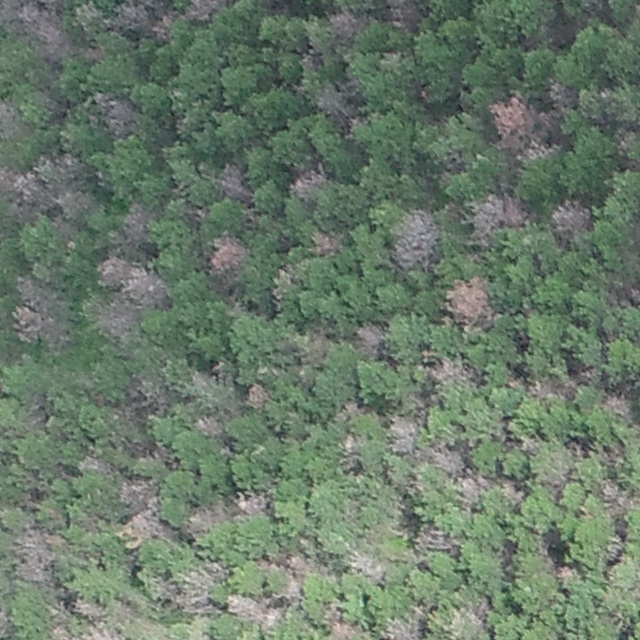unhealthy: (487, 92, 553, 156), (467, 191, 528, 244), (389, 209, 439, 271), (16, 1, 69, 58), (169, 563, 222, 615), (443, 277, 492, 331), (12, 528, 57, 584), (0, 164, 44, 216), (114, 199, 156, 252), (226, 591, 282, 629), (88, 91, 135, 136), (91, 298, 141, 338), (312, 81, 356, 125), (33, 151, 88, 184), (11, 306, 57, 345), (425, 355, 479, 388), (121, 509, 174, 542), (548, 197, 591, 237), (208, 234, 248, 277), (127, 374, 169, 414), (12, 274, 58, 309), (411, 525, 460, 555), (288, 164, 328, 200), (183, 501, 225, 535), (116, 475, 159, 508), (348, 548, 387, 584), (216, 162, 251, 201), (326, 6, 366, 39), (352, 319, 386, 357), (51, 188, 96, 216), (598, 478, 633, 514), (383, 0, 425, 30), (386, 414, 418, 453), (123, 275, 164, 305), (95, 256, 132, 289), (429, 443, 465, 475), (543, 77, 577, 110), (113, 0, 150, 30), (232, 488, 270, 516), (0, 96, 24, 140), (454, 473, 485, 507), (381, 615, 422, 640), (460, 596, 491, 628), (149, 11, 178, 45), (308, 228, 343, 256), (78, 451, 117, 476), (183, 0, 225, 22), (600, 390, 632, 418), (191, 413, 225, 439), (81, 621, 123, 639), (244, 382, 271, 409), (72, 597, 104, 619), (498, 480, 526, 504), (528, 377, 559, 398), (280, 578, 304, 605), (298, 47, 322, 73), (284, 552, 311, 575), (320, 600, 342, 623), (341, 433, 362, 455), (0, 601, 12, 639), (340, 400, 359, 420), (520, 434, 538, 454), (331, 623, 352, 639), (48, 624, 69, 639), (560, 562, 575, 581), (628, 283, 640, 305)
